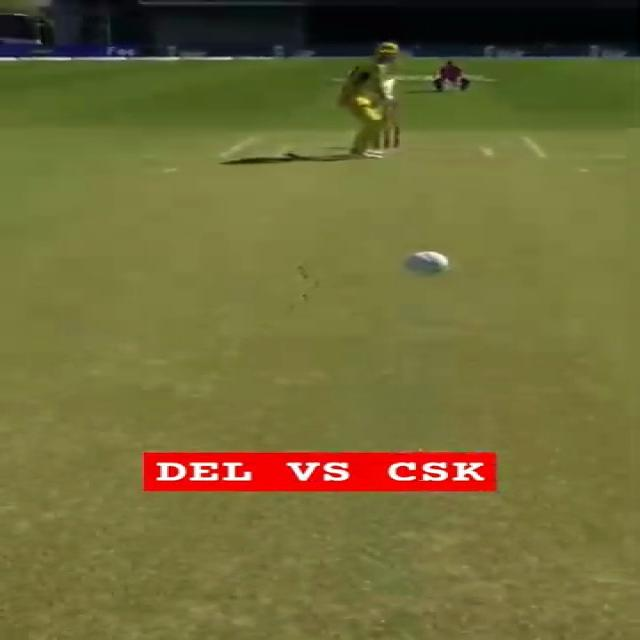ball: (393, 242, 462, 285)
